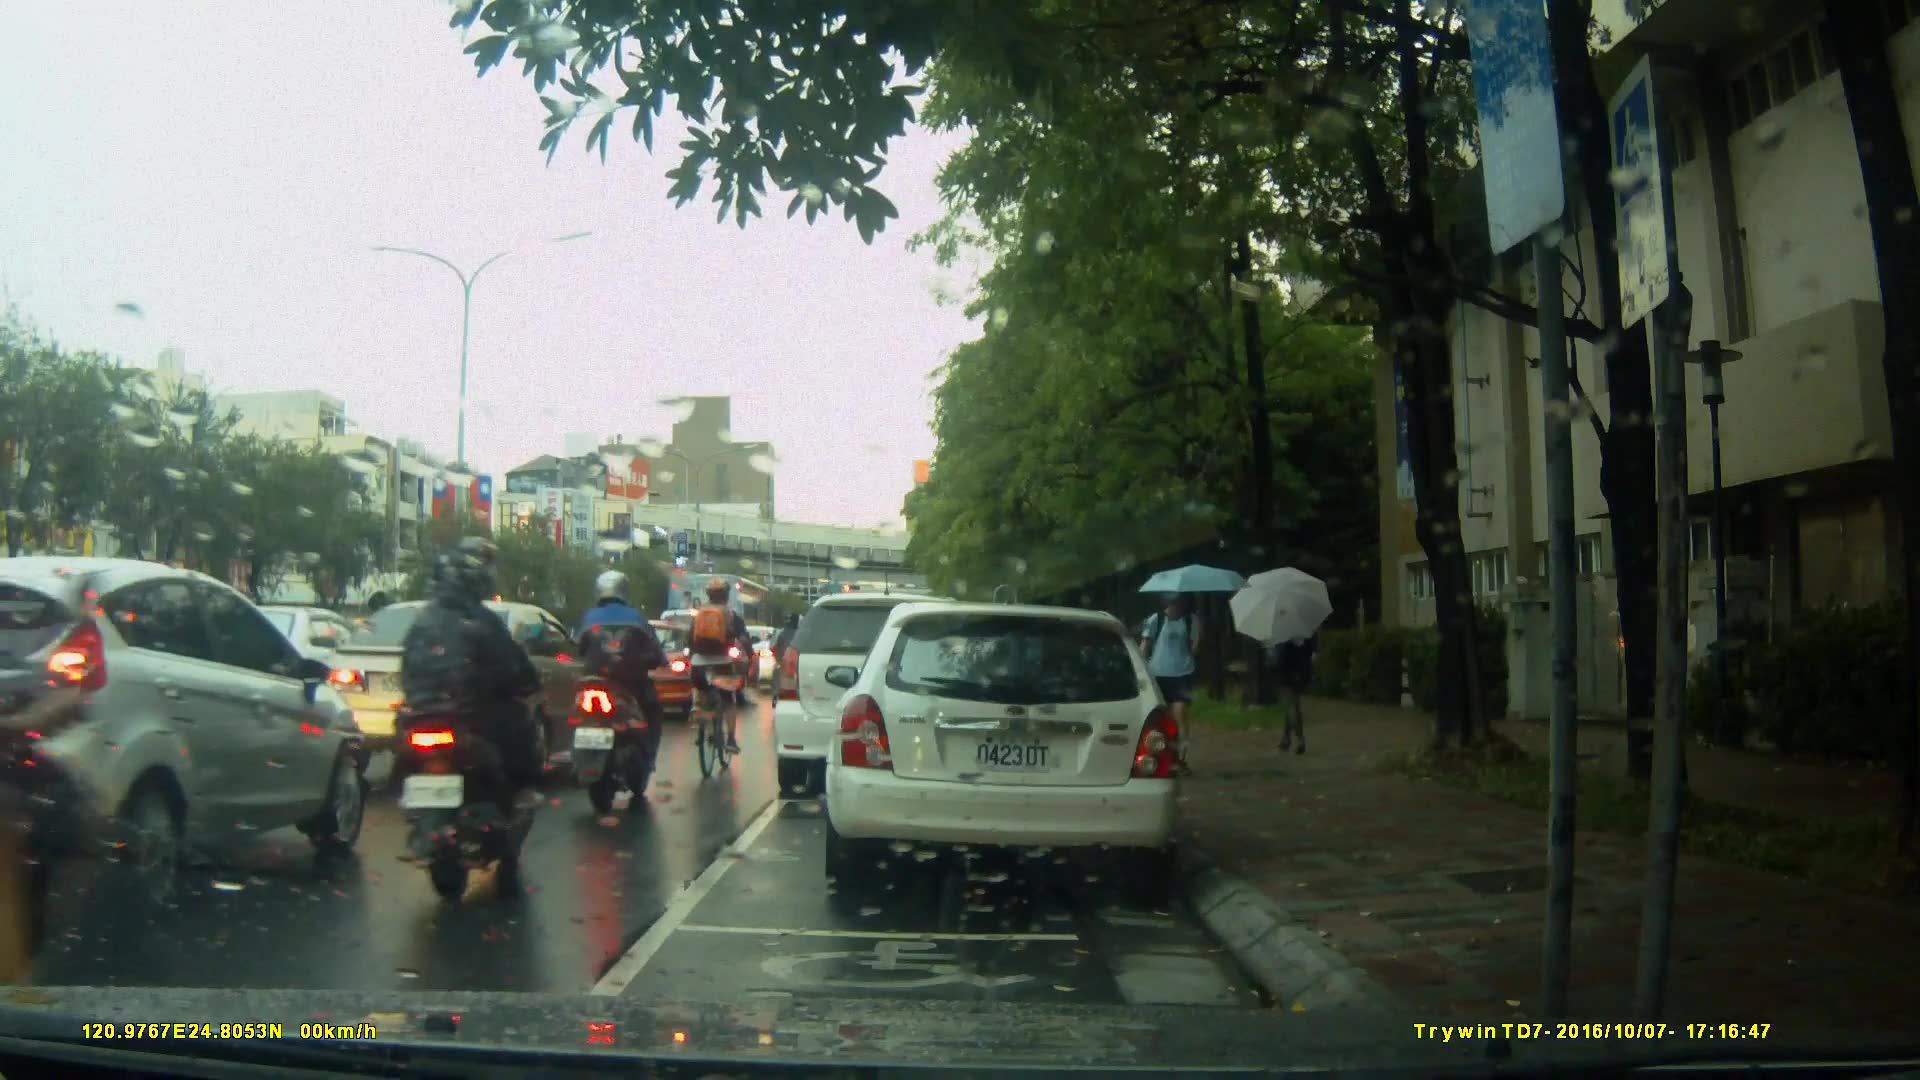pedestrian: (1147, 565, 1211, 791), (1269, 584, 1317, 756)
rider: (1, 566, 138, 1066), (392, 540, 541, 914), (574, 572, 683, 816), (693, 579, 765, 785)
vehicle: (1, 553, 373, 920), (835, 594, 1194, 898), (298, 598, 617, 785), (776, 590, 1026, 784), (570, 620, 704, 721), (666, 570, 785, 673)
